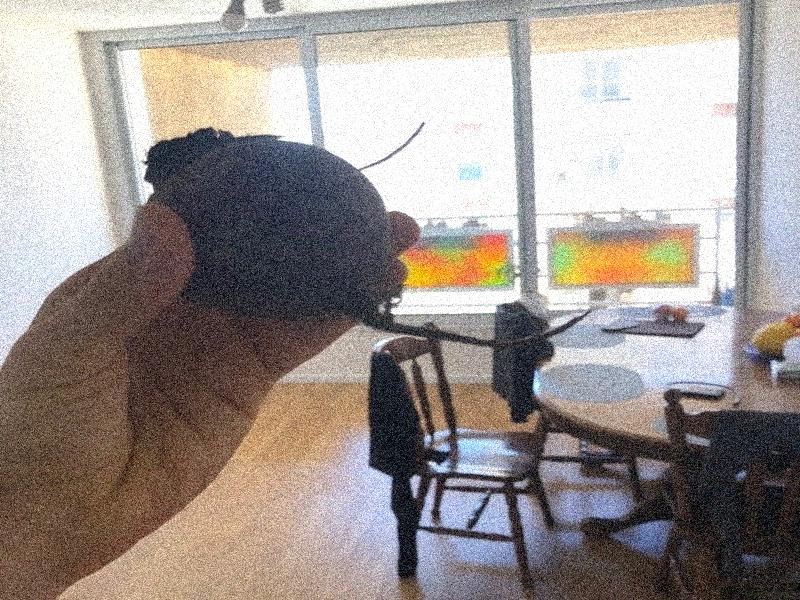Beet: (145, 125, 591, 346)
